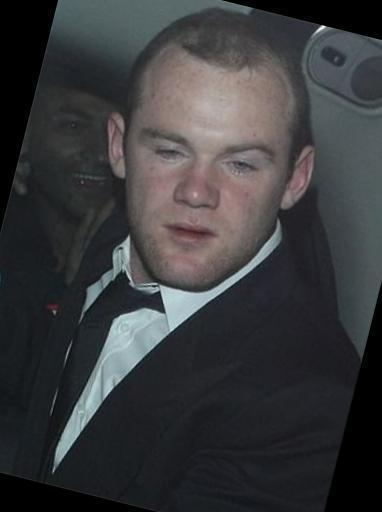Drunk: (138, 55, 281, 279)
